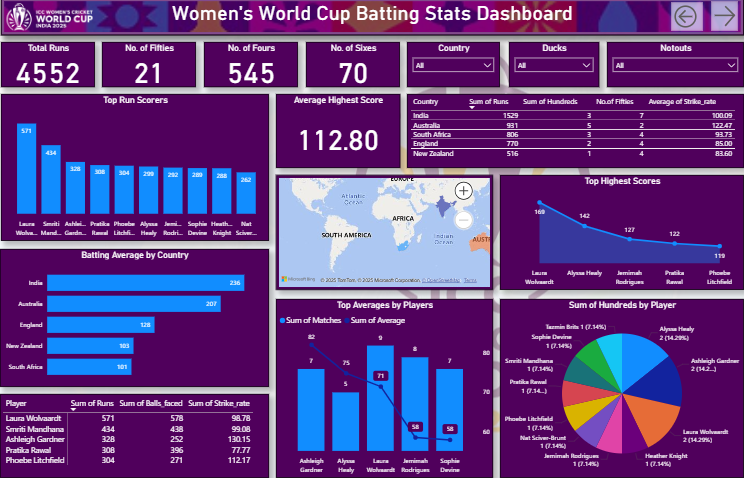

The page's visual inventory and layout, read from the dashboard file:
{"tool":"powerbi","page":{"name":"Batting_Stats","canvas":[1450,950],"ordinal":1},"visuals":[{"type":"image","box":[17.2,11.4,1417.4,70.6],"z":0},{"type":"textbox","box":[17.2,11.4,1417.4,70.6],"z":1000},{"type":"columnChart","title":"Top Run Scorers","fields":{"Category":["batting_stats.Player"],"Y":["batting_stats.Runs"]},"box":[17.2,194.6,511.2,280.4],"z":2000},{"type":"pieChart","fields":{"Category":["batting_stats.Player"],"Y":["batting_stats.Hundreds"]},"box":[969.1,585.6,465.5,341.5],"z":3000},{"type":"barChart","title":"Batting Average by Country","fields":{"Category":["batting_stats.Country"],"Y":["batting_stats.Average"]},"box":[15.3,490.3,513.2,263.3],"z":4000},{"type":"filledMap","fields":{"Category":["batting_stats.Country"],"Series":["batting_stats.Position"]},"box":[541.8,349.1,414,219.4],"z":5000},{"type":"pivotTable","fields":{"Rows":["batting_stats.Player"],"Values":["batting_stats.Runs","batting_stats.Balls_faced","batting_stats.Strike_rate"]},"box":[15.3,766.9,513.2,160.2],"z":6000},{"type":"slicer","title":"Notouts","fields":{"Values":["batting_stats.Notouts"]},"box":[1173.2,95.4,261.3,85.8],"z":7000},{"type":"card","title":"Total Runs","fields":{"Values":["batting_stats.Runs"]},"box":[17.2,95.4,179.3,85.8],"z":8000},{"type":"card","title":"No. of Fifties","fields":{"Values":["batting_stats.No.of Fifties"]},"box":[209.8,95.4,179.3,85.8],"z":9000},{"type":"card","title":"No. of Fours","fields":{"Values":["batting_stats.No. of Fours"]},"box":[404.4,95.4,179.3,85.8],"z":10000},{"type":"card","title":"No. of Sixes","fields":{"Values":["batting_stats.No. of Sixes"]},"box":[599,95.4,179.3,85.8],"z":11000},{"type":"slicer","title":"Ducks","fields":{"Values":["batting_stats.Ducks"]},"box":[986.2,95.4,171.7,85.8],"z":12000},{"type":"slicer","title":"Country","fields":{"Values":["batting_stats.Country"]},"box":[791.7,95.4,177.4,85.8],"z":13000},{"type":"tableEx","fields":{"Values":["batting_stats.Country","batting_stats.Runs","batting_stats.Hundreds","batting_stats.No.of Fifties","batting_stats.Strike_rate"]},"box":[791.7,194.6,642.9,141.2],"z":14000},{"type":"lineClusteredColumnComboChart","title":"Top Averages by Players","fields":{"Category":["batting_stats.Player"],"Y2":["batting_stats.Average"],"Y":["batting_stats.Matches"]},"box":[541.8,585.6,414,341.5],"z":15000},{"type":"card","title":"Average Highest Score","fields":{"Values":["batting_stats.Highest_score"]},"box":[541.8,194.6,236.5,141.2],"z":16000},{"type":"areaChart","title":"Top Highest Scores","fields":{"Category":["batting_stats.Player"],"Y":["batting_stats.Highest_score"]},"box":[969.1,349.1,465.5,219.4],"z":17000},{"type":"actionButton","box":[1364,9.5,66.8,72.5],"z":18000},{"type":"actionButton","box":[1287.7,11.4,76.3,70.6],"z":19000},{"type":"image","box":[22.9,11.4,173.6,72.5],"z":20000}]}

Visuals, with their boxes in screenshot pixels (x1, y1, x2, y2), scaled from the page's 1450x950 canvas onto the 744x478 screenshot:
image: box(9, 6, 736, 41)
textbox: box(9, 6, 736, 41)
"Top Run Scorers" columnChart: box(9, 98, 271, 239)
pieChart - batting_stats.Player x batting_stats.Hundreds: box(497, 295, 736, 466)
"Batting Average by Country" barChart: box(8, 247, 271, 379)
filledMap - batting_stats.Country x batting_stats.Position: box(278, 176, 490, 286)
pivotTable - batting_stats.Player x batting_stats.Runs: box(8, 386, 271, 466)
"Notouts" slicer: box(602, 48, 736, 91)
"Total Runs" card: box(9, 48, 101, 91)
"No. of Fifties" card: box(108, 48, 200, 91)
"No. of Fours" card: box(207, 48, 299, 91)
"No. of Sixes" card: box(307, 48, 399, 91)
"Ducks" slicer: box(506, 48, 594, 91)
"Country" slicer: box(406, 48, 497, 91)
tableEx - batting_stats.Country x batting_stats.Runs: box(406, 98, 736, 169)
"Top Averages by Players" lineClusteredColumnComboChart: box(278, 295, 490, 466)
"Average Highest Score" card: box(278, 98, 399, 169)
"Top Highest Scores" areaChart: box(497, 176, 736, 286)
actionButton: box(700, 5, 734, 41)
actionButton: box(661, 6, 700, 41)
image: box(12, 6, 101, 42)
